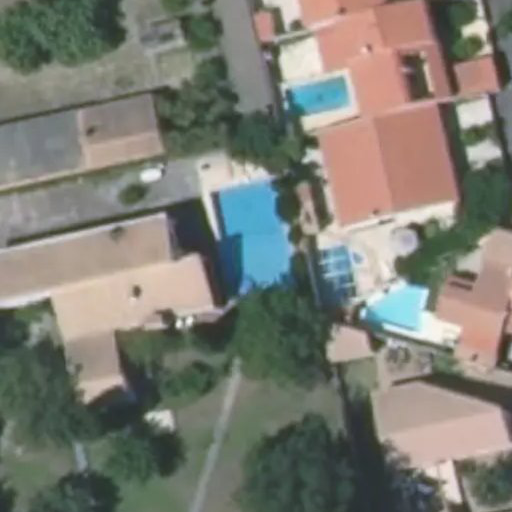pool: (208, 196, 303, 287)
